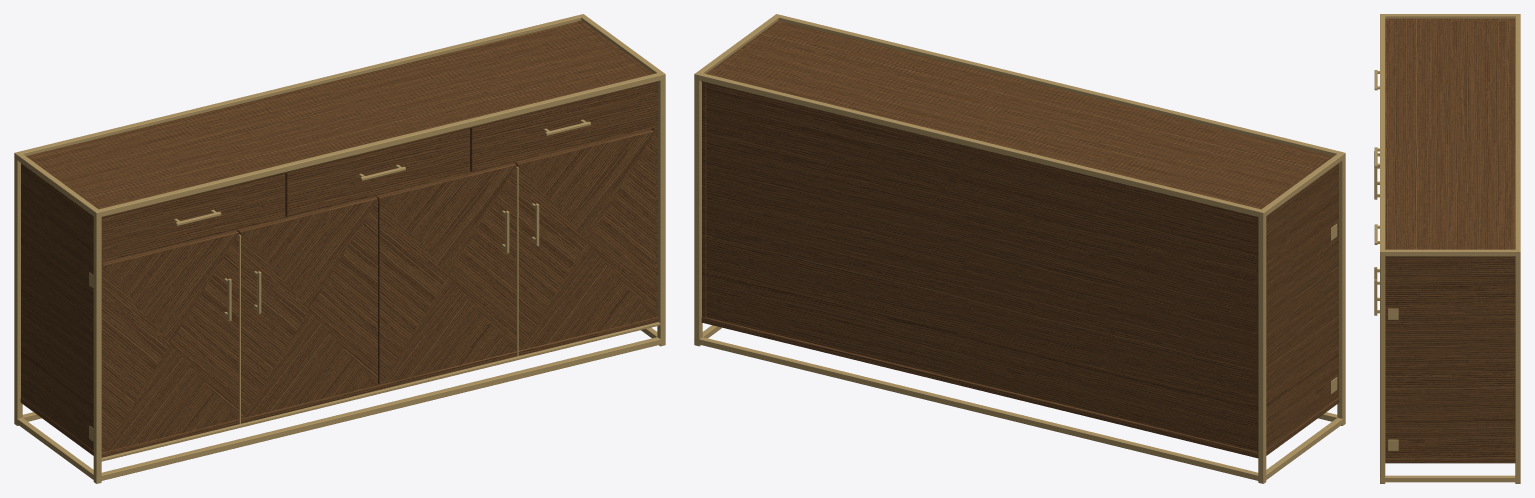
The picture shows the model from 3 angles, left to right: view 1: azimuth 30°, elevation 25°; view 2: azimuth 150°, elevation 25°; view 3: azimuth 270°, elevation 25°; orthographic projection. The views are drawn at different scales.
Visible parts, largest first — view 1: SIENNA LV463-D21 | LV463-D21-01 optimized, Buffet door 3 hinge pivot optimized, Buffet door 4 hinge pivot optimized, Buffet door 1 hinge pivot optimized, Buffet door 2 hinge pivot optimized, Buffet upper drawer 2 sliding pivot optimized, Buffet upper drawer 3 sliding pivot optimized, Buffet upper drawer 1 sliding pivot optimized; view 2: SIENNA LV463-D21 | LV463-D21-01 optimized; view 3: SIENNA LV463-D21 | LV463-D21-01 optimized, Buffet door 4 hinge pivot optimized.
Part boxes in pixels (bbox=[...]): SIENNA LV463-D21 | LV463-D21-01 optimized: bbox=[14, 14, 665, 483]; Buffet door 3 hinge pivot optimized: bbox=[376, 162, 516, 384]; Buffet door 4 hinge pivot optimized: bbox=[515, 129, 655, 350]; Buffet door 1 hinge pivot optimized: bbox=[89, 230, 238, 452]; Buffet door 2 hinge pivot optimized: bbox=[237, 196, 377, 418]; Buffet upper drawer 2 sliding pivot optimized: bbox=[285, 128, 469, 217]; Buffet upper drawer 3 sliding pivot optimized: bbox=[470, 83, 654, 172]; Buffet upper drawer 1 sliding pivot optimized: bbox=[102, 174, 285, 262]; SIENNA LV463-D21 | LV463-D21-01 optimized: bbox=[694, 14, 1345, 483]; SIENNA LV463-D21 | LV463-D21-01 optimized: bbox=[1380, 14, 1520, 483]; Buffet door 4 hinge pivot optimized: bbox=[1374, 279, 1398, 450].
Size of the model in its own units: 1.8 by 0.82 by 0.468.
4 materials, 2 textured.
